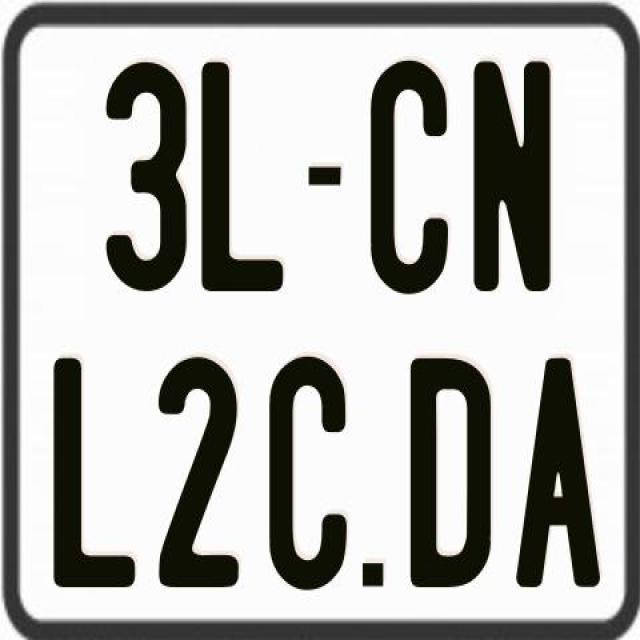2: (157, 357, 239, 591)
3: (103, 58, 189, 290)
A: (512, 357, 604, 594)
C: (266, 352, 346, 594), (368, 61, 450, 296)
D: (411, 359, 493, 596)
L: (200, 62, 288, 296), (51, 359, 133, 588)
N: (473, 58, 555, 296)
